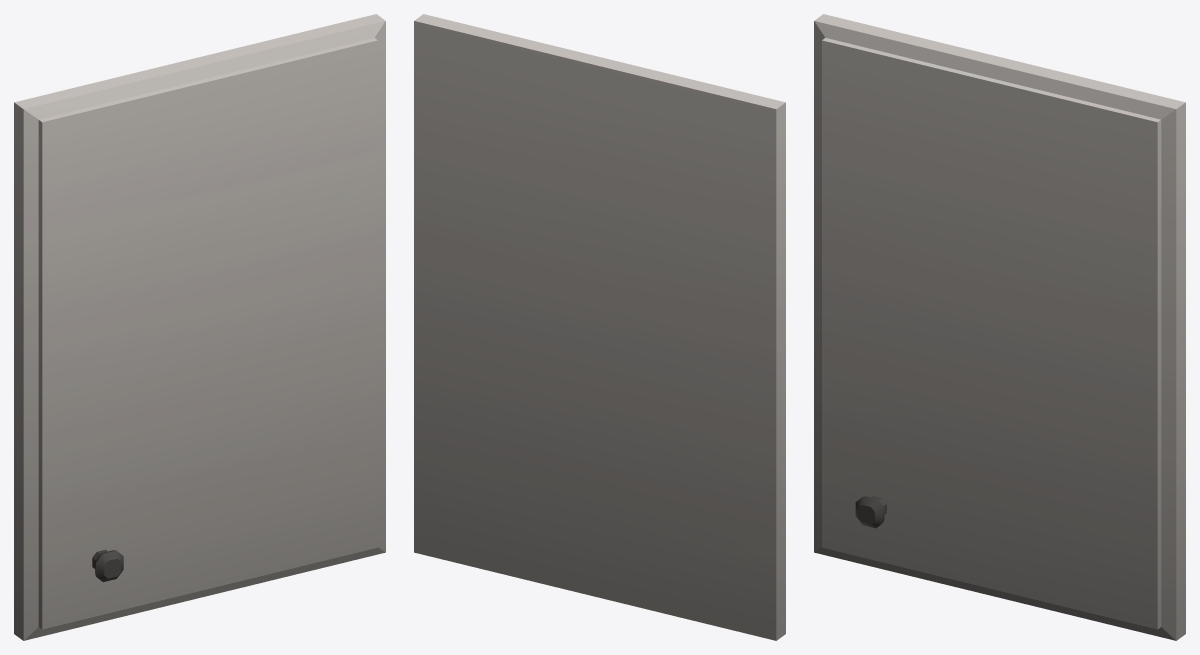
The model's file is Door_Cabinet_Right.fbx.
The picture shows the model from 3 angles, left to right: view 1: azimuth 30°, elevation 25°; view 2: azimuth 150°, elevation 25°; view 3: azimuth 330°, elevation 25°; orthographic projection.
Parts seen in each view (by area): view 1: Door_Cabinet_Right; view 2: Door_Cabinet_Right; view 3: Door_Cabinet_Right.
Boxes of the visible parts, x1,y1,x2,y2 form: Door_Cabinet_Right: (14, 14, 385, 640); Door_Cabinet_Right: (414, 14, 785, 640); Door_Cabinet_Right: (814, 14, 1185, 640).
Size of the model in its own units: 38.54 by 54.04 by 5.15.
